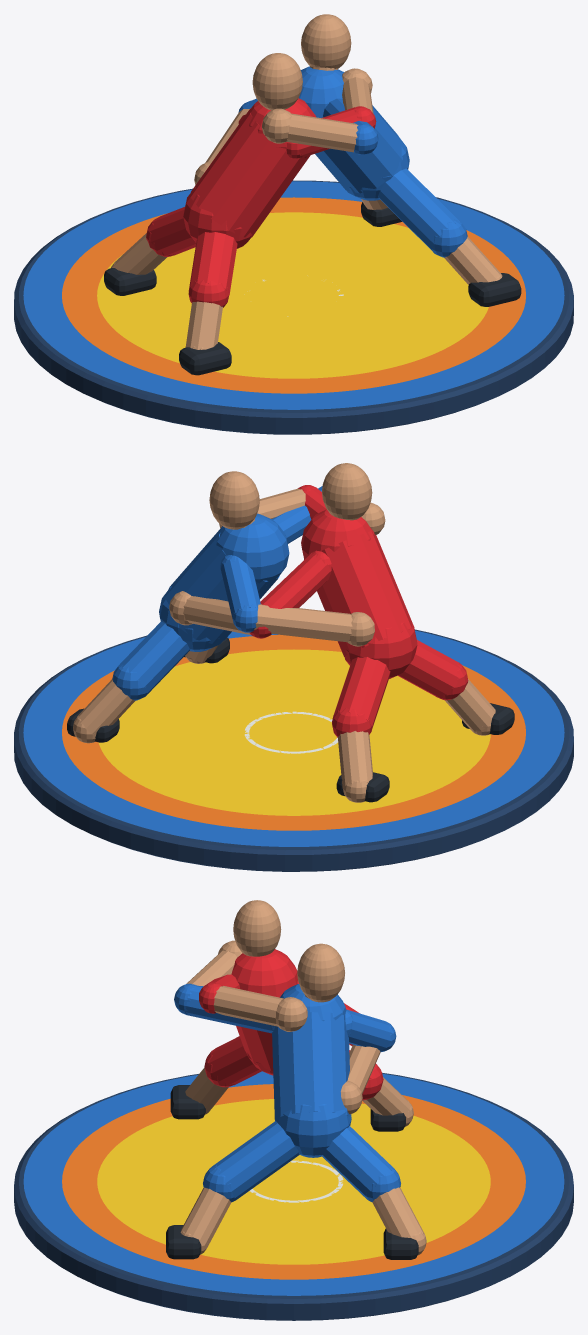
The model's file is olympic_wrestling.glb.
The picture shows the model from 3 angles, top to bottom: view 1: azimuth 30°, elevation 25°; view 2: azimuth 150°, elevation 25°; view 3: azimuth 270°, elevation 25°; orthographic projection.
Visible parts, largest first — view 1: olympic_wrestling; view 2: olympic_wrestling; view 3: olympic_wrestling.
Part boxes in pixels (box(x1,y1,x2,y2)): olympic_wrestling: box(14, 14, 573, 434); olympic_wrestling: box(14, 463, 573, 871); olympic_wrestling: box(14, 900, 573, 1320).
Size of the model in its own units: 0.35 by 0.197 by 0.35.
